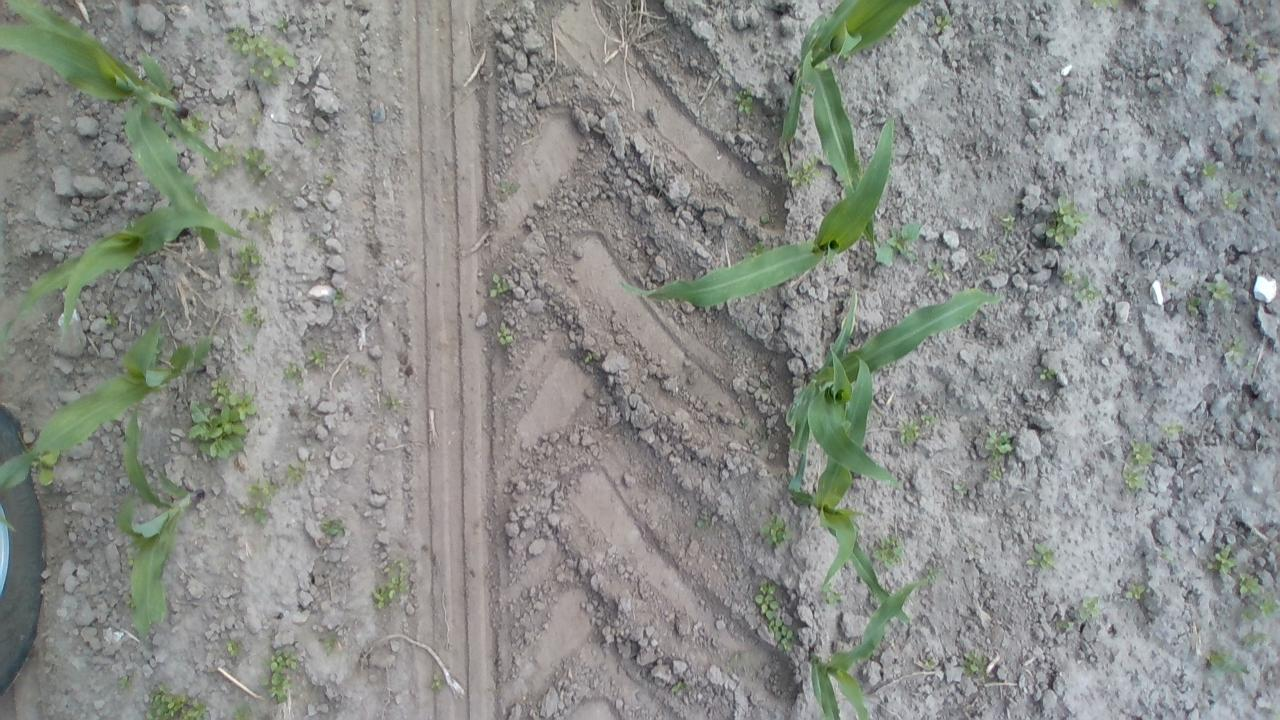Maize: (0, 0, 227, 254), (616, 114, 897, 308), (0, 314, 214, 534), (785, 285, 1003, 495), (0, 202, 251, 346), (784, 0, 922, 255), (789, 356, 912, 625), (113, 403, 210, 645), (806, 575, 927, 720)
Weeds: (184, 373, 253, 462), (225, 24, 298, 84), (754, 577, 800, 651), (1042, 194, 1090, 248), (368, 556, 412, 614), (141, 683, 209, 720), (873, 222, 921, 268), (262, 643, 296, 703), (1118, 439, 1156, 492), (1204, 640, 1252, 681), (240, 143, 276, 186), (871, 534, 907, 574), (788, 154, 822, 188), (762, 513, 794, 549), (1204, 542, 1236, 574), (984, 425, 1018, 455), (1022, 540, 1055, 570), (234, 499, 272, 525), (239, 202, 275, 228), (228, 240, 261, 266), (230, 270, 260, 298), (1219, 183, 1247, 212), (961, 648, 990, 676), (1072, 275, 1102, 302), (492, 321, 518, 352), (36, 453, 61, 485), (1221, 331, 1244, 365), (282, 460, 308, 490), (246, 479, 285, 498), (1205, 275, 1234, 300), (280, 359, 306, 386), (238, 307, 265, 333), (1236, 571, 1261, 599), (896, 415, 920, 444), (732, 88, 756, 117), (180, 111, 210, 132), (924, 258, 948, 284), (1075, 596, 1101, 620), (1236, 630, 1270, 648), (1256, 592, 1279, 618), (316, 516, 344, 537), (1160, 415, 1186, 436), (488, 272, 510, 296), (316, 628, 338, 651), (1242, 32, 1260, 60), (218, 142, 236, 168), (500, 179, 520, 202), (976, 247, 1000, 266), (933, 10, 952, 34), (952, 474, 971, 498), (1187, 292, 1204, 318), (1123, 579, 1144, 600), (984, 462, 1004, 484), (384, 393, 406, 412), (306, 348, 328, 366), (822, 583, 839, 606), (1061, 269, 1080, 288), (1034, 365, 1058, 380), (1202, 160, 1220, 180), (1086, 0, 1121, 10), (999, 213, 1018, 231), (729, 650, 746, 670), (694, 515, 714, 532), (333, 281, 346, 307), (741, 242, 762, 258), (432, 672, 448, 693), (272, 16, 290, 34), (116, 674, 133, 693), (753, 426, 768, 447), (306, 133, 322, 152), (1212, 80, 1230, 96), (202, 162, 218, 180), (250, 105, 262, 129), (925, 562, 941, 580), (1238, 604, 1256, 620), (231, 705, 249, 720), (227, 639, 241, 658), (105, 308, 119, 326), (1258, 71, 1274, 86), (321, 172, 334, 188), (1054, 618, 1070, 631), (1156, 545, 1172, 558), (922, 414, 941, 424), (355, 362, 366, 379), (1163, 278, 1180, 289), (760, 211, 771, 226), (1053, 84, 1066, 96), (670, 681, 684, 692), (1206, 0, 1224, 8), (736, 418, 750, 428), (242, 342, 256, 351), (583, 352, 593, 364), (126, 597, 136, 609), (194, 519, 206, 529), (306, 232, 318, 242), (1244, 357, 1253, 370), (926, 659, 937, 668), (127, 554, 133, 566)
